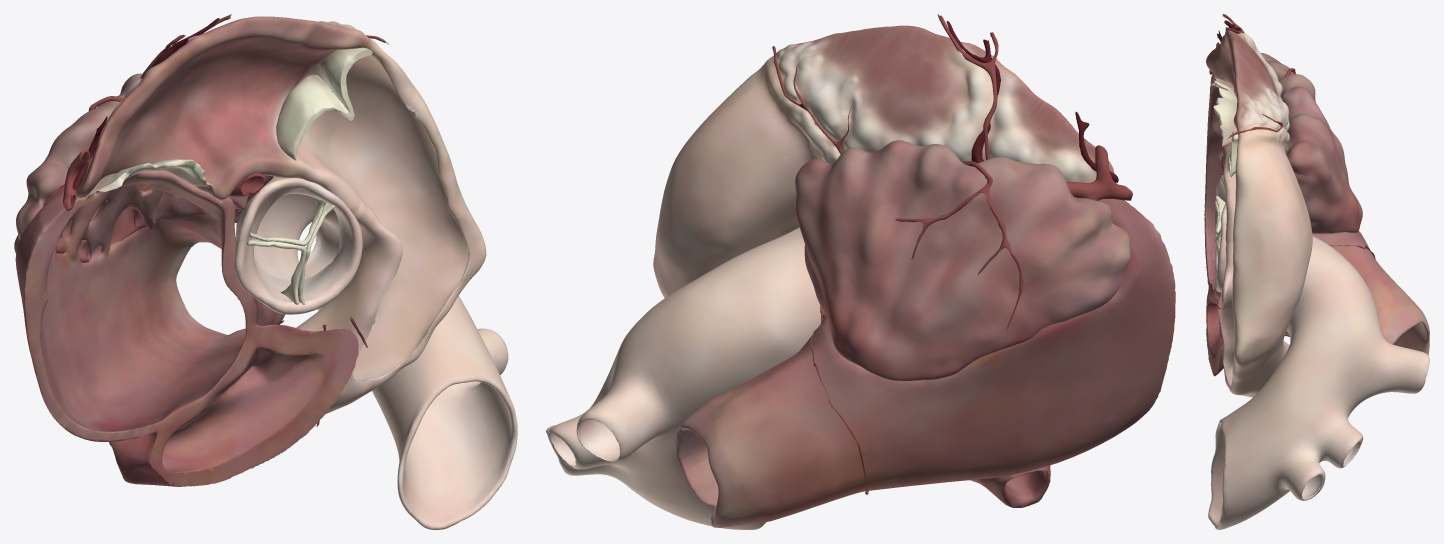
The model's file is cardiac_anatomy_psax_aortic_valve_echo_plane.glb.
The picture shows the model from 3 angles, left to right: view 1: azimuth 30°, elevation 25°; view 2: azimuth 150°, elevation 25°; view 3: azimuth 270°, elevation 25°; orthographic projection. The views are drawn at different scales.
Visible parts, largest first — view 1: Object_18, Object_21, Object_12, Object_20, Object_8, Object_6, Object_10, Object_16, Object_14, Object_4; view 2: Object_18, Object_8, Object_12, Object_20, Object_21, Object_10, Object_4; view 3: Object_12, Object_21, Object_20, Object_18, Object_8, Object_14, Object_10, Object_16, Object_6.
Boxes of the visible parts, x1,y1,x2,y2 form: Object_18: [15, 170, 358, 486]; Object_21: [76, 16, 486, 414]; Object_12: [234, 176, 517, 529]; Object_20: [77, 16, 482, 264]; Object_8: [14, 73, 273, 262]; Object_6: [276, 47, 372, 160]; Object_10: [43, 14, 389, 426]; Object_16: [247, 198, 335, 305]; Object_14: [86, 159, 222, 202]; Object_4: [72, 18, 219, 189]; Object_18: [675, 199, 1175, 527]; Object_8: [795, 140, 1130, 380]; Object_12: [546, 227, 823, 529]; Object_20: [656, 25, 1114, 237]; Object_21: [653, 26, 1113, 297]; Object_10: [772, 14, 1132, 494]; Object_4: [946, 21, 1118, 182]; Object_12: [1208, 175, 1429, 529]; Object_21: [1206, 30, 1312, 397]; Object_20: [1206, 29, 1312, 345]; Object_18: [1204, 74, 1429, 376]; Object_8: [1261, 53, 1362, 233]; Object_14: [1211, 77, 1237, 159]; Object_10: [1209, 14, 1375, 375]; Object_16: [1214, 196, 1225, 278]; Object_6: [1226, 131, 1238, 177].
Bounding box in the file's own units: 1.59 × 1.55 × 0.7581.
